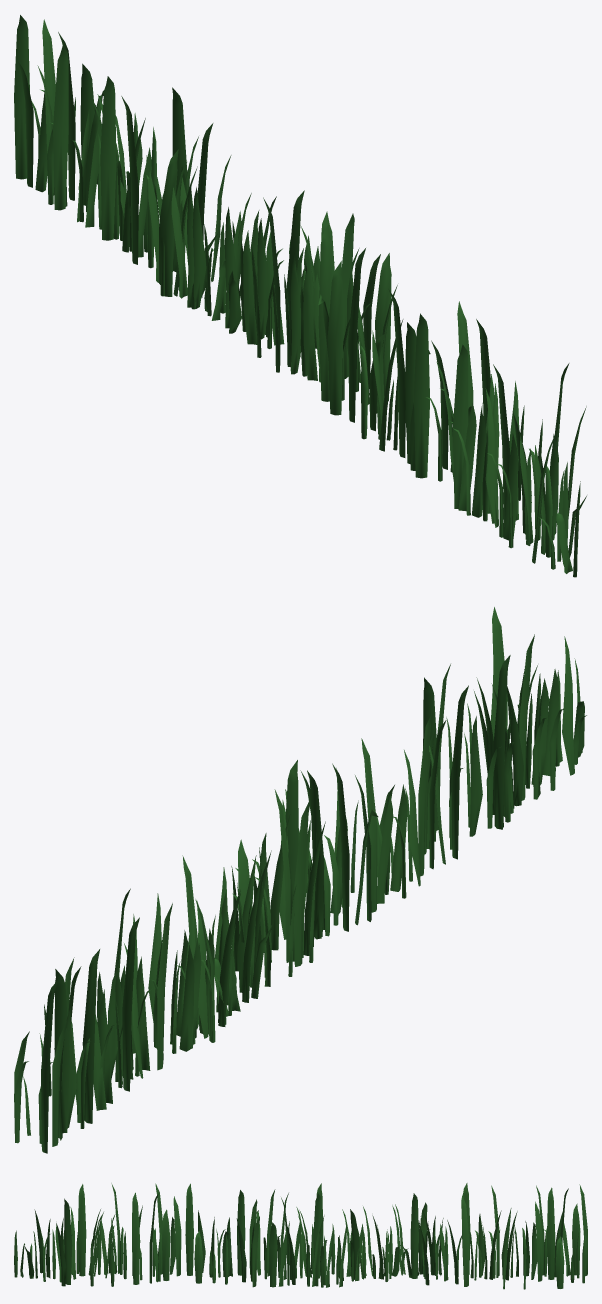
The model's file is 0_Grass.FBX.
The picture shows the model from 3 angles, top to bottom: view 1: azimuth 30°, elevation 25°; view 2: azimuth 150°, elevation 25°; view 3: azimuth 270°, elevation 25°; orthographic projection. The views are drawn at different scales.
Visible parts, largest first — view 1: grass; view 2: grass; view 3: grass.
Part boxes in pixels (box(x1,y1,x2,y2)): grass: box(14, 15, 586, 577); grass: box(14, 607, 586, 1153); grass: box(14, 1183, 587, 1289).
Bounding box in the file's own units: 63.57 × 121 × 705.
